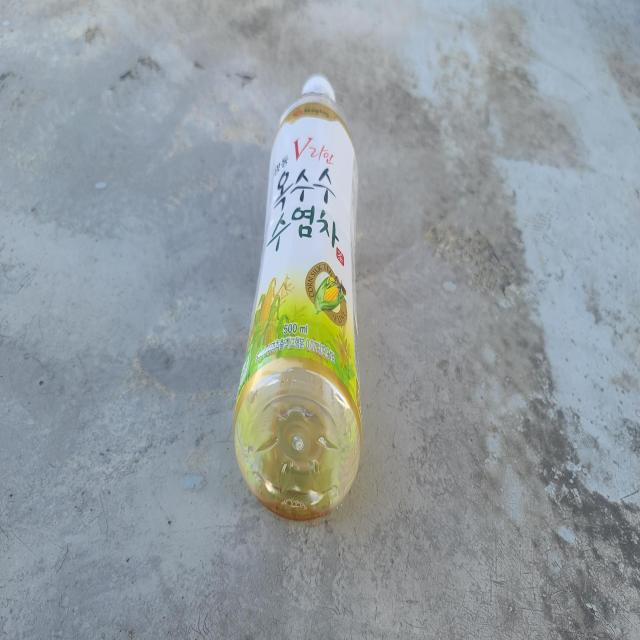plastic: (234, 73, 362, 520)
